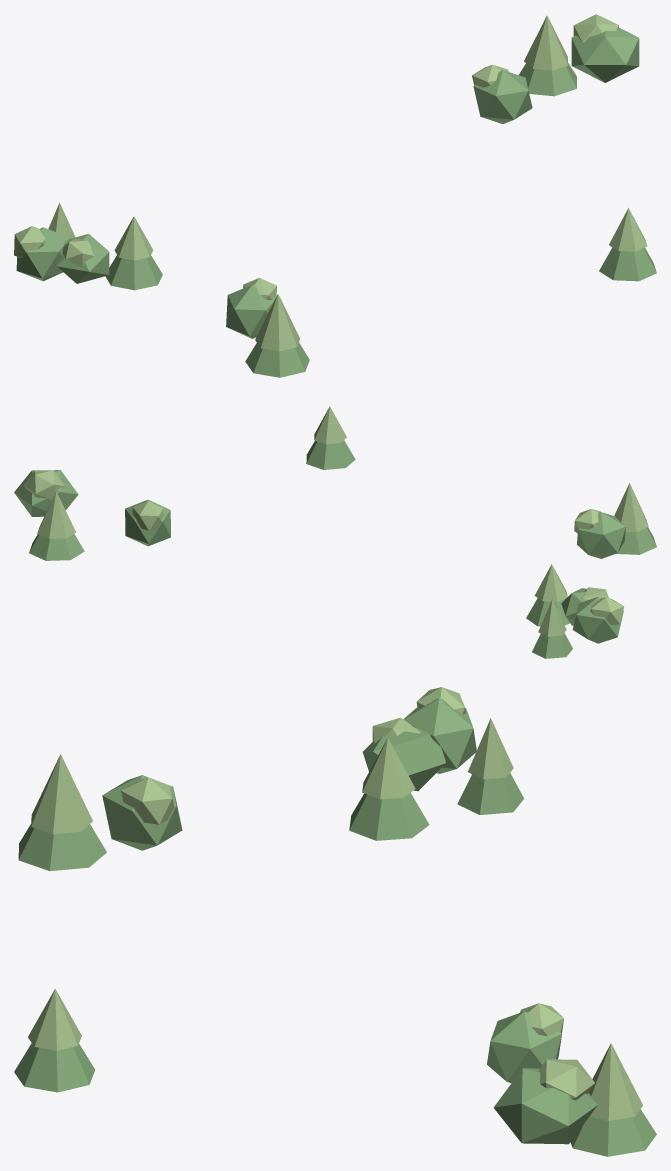
The model's file is cliff_overlook_gate_wind_canopies.fbx.
3 views of the same model, one above another, from view 1: azimuth 30°, elevation 25°; view 2: azimuth 150°, elevation 25°; view 3: azimuth 270°, elevation 25° (orthographic). The views are drawn at different scales.
Parts seen in each view (by area): view 1: chunk_cliff_overlook_gate__tree_canopy_20, chunk_cliff_overlook_gate__tree_canopy_16, chunk_cliff_overlook_gate__tree_canopy_11, chunk_cliff_overlook_gate__tree_canopy_09, chunk_cliff_overlook_gate__tree_canopy_02, chunk_cliff_overlook_gate__tree_canopy_10, chunk_cliff_overlook_gate__tree_canopy_07, chunk_cliff_overlook_gate__tree_canopy_14, chunk_cliff_overlook_gate__tree_canopy_17, chunk_cliff_overlook_gate__tree_canopy_18, chunk_cliff_overlook_gate__tree_canopy_04, chunk_cliff_overlook_gate__tree_canopy_08 (+4 smaller); view 2: chunk_cliff_overlook_gate__tree_canopy_11, chunk_cliff_overlook_gate__tree_canopy_02, chunk_cliff_overlook_gate__tree_canopy_20, chunk_cliff_overlook_gate__tree_canopy_14, chunk_cliff_overlook_gate__tree_canopy_18, chunk_cliff_overlook_gate__tree_canopy_16, chunk_cliff_overlook_gate__tree_canopy_17, chunk_cliff_overlook_gate__tree_canopy_10, chunk_cliff_overlook_gate__tree_canopy_19, chunk_cliff_overlook_gate__tree_canopy_05, chunk_cliff_overlook_gate__tree_canopy_13, chunk_cliff_overlook_gate__tree_canopy_09 (+7 smaller); view 3: chunk_cliff_overlook_gate__tree_canopy_20, chunk_cliff_overlook_gate__tree_canopy_16, chunk_cliff_overlook_gate__tree_canopy_09, chunk_cliff_overlook_gate__tree_canopy_14, chunk_cliff_overlook_gate__tree_canopy_07, chunk_cliff_overlook_gate__tree_canopy_10, chunk_cliff_overlook_gate__tree_canopy_02, chunk_cliff_overlook_gate__tree_canopy_11, chunk_cliff_overlook_gate__tree_canopy_18, chunk_cliff_overlook_gate__tree_canopy_17, chunk_cliff_overlook_gate__tree_canopy_04, chunk_cliff_overlook_gate__tree_canopy_05 (+7 smaller).
Boxes of the visible parts, bbox=[...] form: chunk_cliff_overlook_gate__tree_canopy_20: bbox=[571, 27, 639, 82]; chunk_cliff_overlook_gate__tree_canopy_16: bbox=[473, 70, 532, 123]; chunk_cliff_overlook_gate__tree_canopy_11: bbox=[226, 285, 276, 338]; chunk_cliff_overlook_gate__tree_canopy_09: bbox=[245, 343, 309, 377]; chunk_cliff_overlook_gate__tree_canopy_02: bbox=[16, 227, 69, 281]; chunk_cliff_overlook_gate__tree_canopy_10: bbox=[255, 294, 300, 351]; chunk_cliff_overlook_gate__tree_canopy_07: bbox=[105, 255, 162, 290]; chunk_cliff_overlook_gate__tree_canopy_14: bbox=[599, 247, 656, 281]; chunk_cliff_overlook_gate__tree_canopy_17: bbox=[524, 15, 567, 70]; chunk_cliff_overlook_gate__tree_canopy_18: bbox=[519, 63, 576, 96]; chunk_cliff_overlook_gate__tree_canopy_04: bbox=[56, 234, 109, 283]; chunk_cliff_overlook_gate__tree_canopy_08: bbox=[114, 216, 152, 260]; chunk_cliff_overlook_gate__tree_canopy_11: bbox=[577, 512, 625, 558]; chunk_cliff_overlook_gate__tree_canopy_02: bbox=[572, 597, 623, 643]; chunk_cliff_overlook_gate__tree_canopy_20: bbox=[14, 470, 78, 516]; chunk_cliff_overlook_gate__tree_canopy_14: bbox=[306, 440, 355, 469]; chunk_cliff_overlook_gate__tree_canopy_18: bbox=[29, 534, 84, 560]; chunk_cliff_overlook_gate__tree_canopy_16: bbox=[125, 499, 170, 546]; chunk_cliff_overlook_gate__tree_canopy_17: bbox=[37, 491, 76, 538]; chunk_cliff_overlook_gate__tree_canopy_10: bbox=[614, 483, 648, 532]; chunk_cliff_overlook_gate__tree_canopy_19: bbox=[23, 470, 64, 500]; chunk_cliff_overlook_gate__tree_canopy_05: bbox=[532, 633, 572, 658]; chunk_cliff_overlook_gate__tree_canopy_13: bbox=[314, 406, 346, 444]; chunk_cliff_overlook_gate__tree_canopy_09: bbox=[616, 527, 656, 554]; chunk_cliff_overlook_gate__tree_canopy_20: bbox=[493, 1068, 597, 1144]; chunk_cliff_overlook_gate__tree_canopy_16: bbox=[487, 1011, 561, 1083]; chunk_cliff_overlook_gate__tree_canopy_09: bbox=[18, 824, 106, 871]; chunk_cliff_overlook_gate__tree_canopy_14: bbox=[14, 1043, 94, 1092]; chunk_cliff_overlook_gate__tree_canopy_07: bbox=[349, 792, 429, 840]; chunk_cliff_overlook_gate__tree_canopy_10: bbox=[31, 754, 92, 834]; chunk_cliff_overlook_gate__tree_canopy_02: bbox=[403, 698, 476, 773]; chunk_cliff_overlook_gate__tree_canopy_11: bbox=[102, 775, 182, 850]; chunk_cliff_overlook_gate__tree_canopy_18: bbox=[570, 1109, 656, 1156]; chunk_cliff_overlook_gate__tree_canopy_17: bbox=[588, 1043, 642, 1120]; chunk_cliff_overlook_gate__tree_canopy_04: bbox=[362, 727, 445, 791]; chunk_cliff_overlook_gate__tree_canopy_05: bbox=[457, 773, 524, 814].
Size of the model in its own units: 228 by 30.53 by 138.
